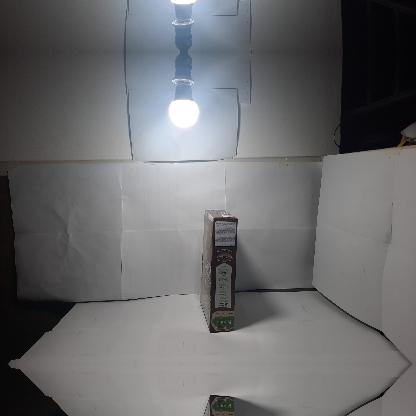Koko-Krunch: (200, 209, 236, 333)
